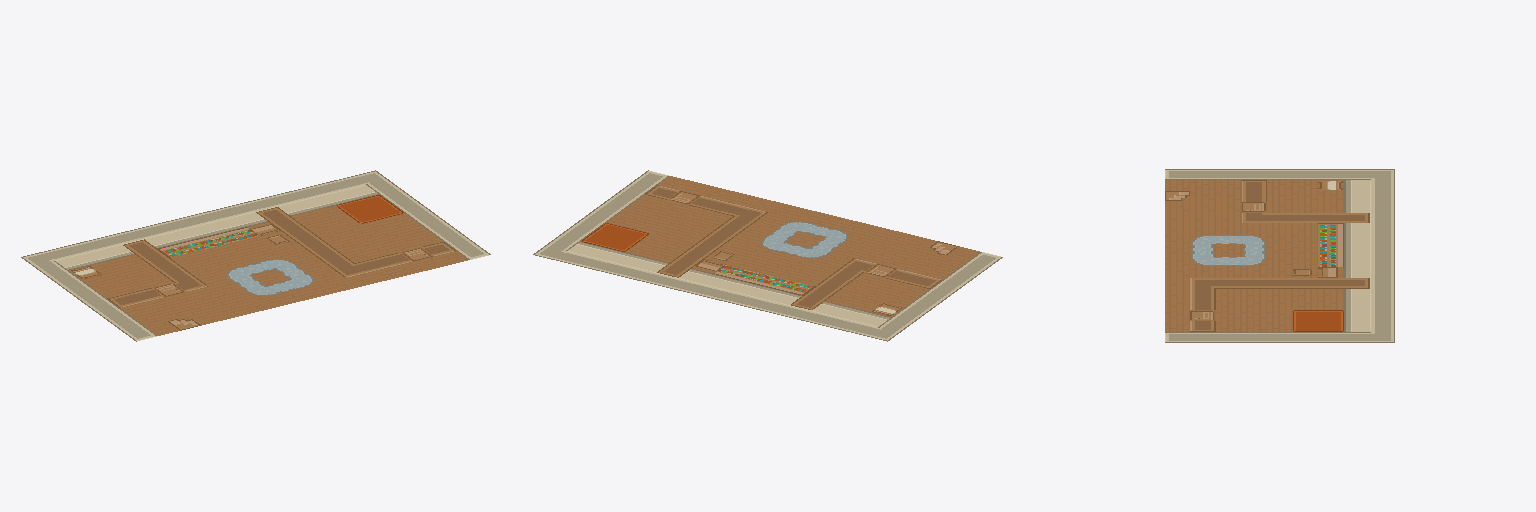
The picture shows the model from 3 angles: view 1: azimuth 30°, elevation 25°; view 2: azimuth 150°, elevation 25°; view 3: azimuth 270°, elevation 25°; orthographic projection.
Parts seen in each view (by area): view 1: Grid_Grid.001; view 2: Grid_Grid.001; view 3: Grid_Grid.001.
Part boxes in pixels (bbox=[...]): Grid_Grid.001: bbox=[21, 170, 490, 341]; Grid_Grid.001: bbox=[533, 170, 1002, 341]; Grid_Grid.001: bbox=[1165, 169, 1394, 342].
Bounding box in the file's own units: 10.24 × 0 × 5.76.
Materials: 1 (1 with a texture image).